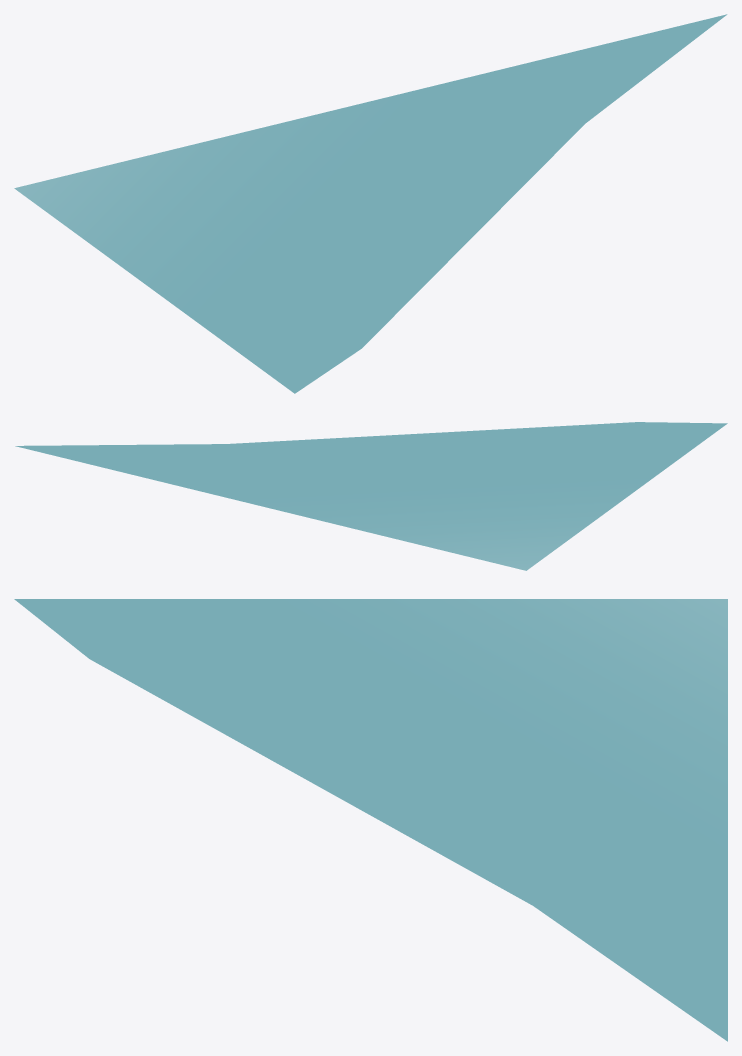
3 renders of one model, top to bottom at view 1: azimuth 30°, elevation 25°; view 2: azimuth 150°, elevation 25°; view 3: azimuth 270°, elevation 25°, orthographic. The views are drawn at different scales.
Parts seen in each view (by area): view 1: city; view 2: city; view 3: city.
Part boxes in pixels (box(x1,y1,x2,y2)): city: box(14, 14, 727, 393); city: box(15, 422, 727, 570); city: box(14, 599, 727, 1041).
Size of the model in its own units: 231 by 0 by 158.
